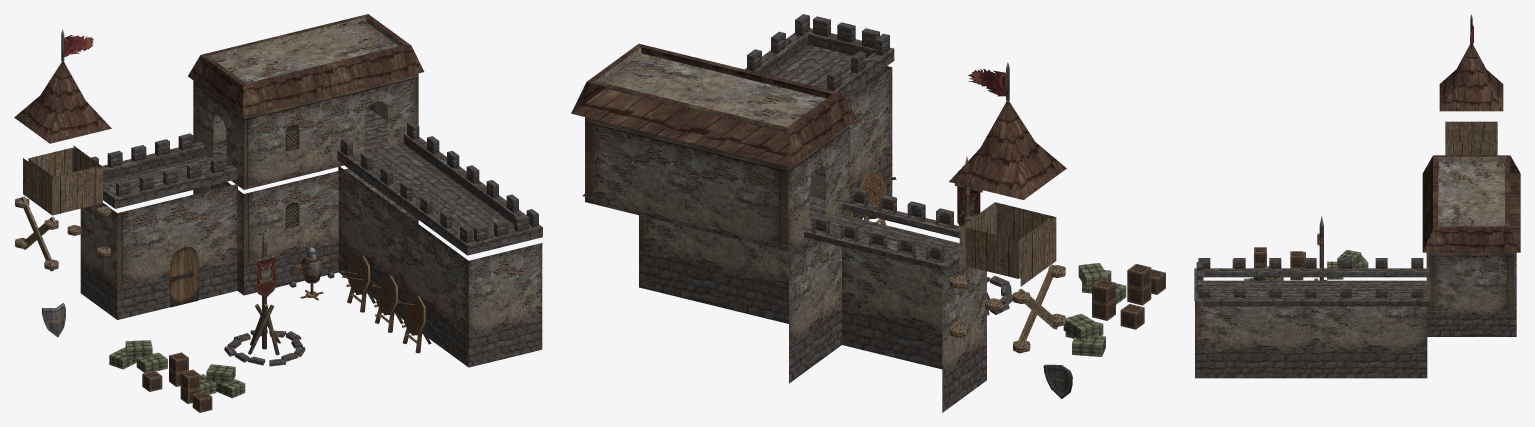
Rendered from SC_yonghengsenlin_22.FBX.
The picture shows the model from 3 angles, left to right: view 1: azimuth 30°, elevation 25°; view 2: azimuth 150°, elevation 25°; view 3: azimuth 270°, elevation 25°; orthographic projection. The views are drawn at different scales.
Parts seen in each view (by area): view 1: SC_yonghengsenlin_22; view 2: SC_yonghengsenlin_22; view 3: SC_yonghengsenlin_22.
Part boxes in pixels (x1=…): SC_yonghengsenlin_22: x1=14, y1=14, x2=542, y2=412; SC_yonghengsenlin_22: x1=571, y1=14, x2=1165, y2=412; SC_yonghengsenlin_22: x1=1194, y1=14, x2=1520, y2=378.
Bounding box in the file's own units: 1556 × 1152 × 1329.
